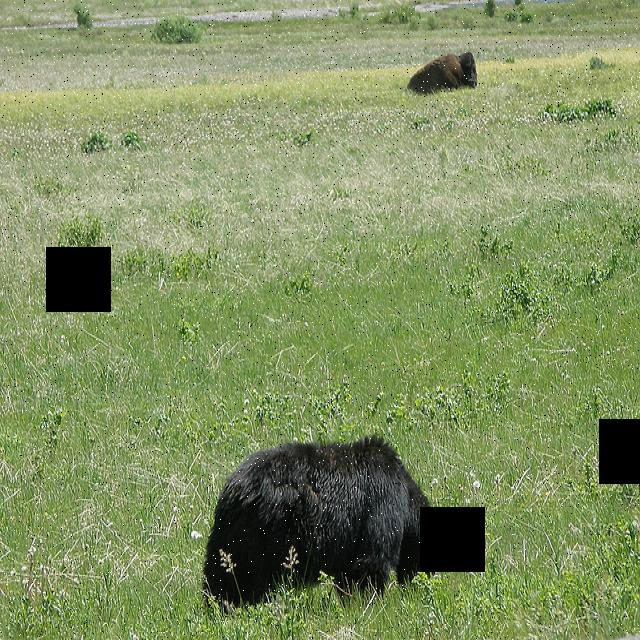Bear: (201, 441, 450, 603)
